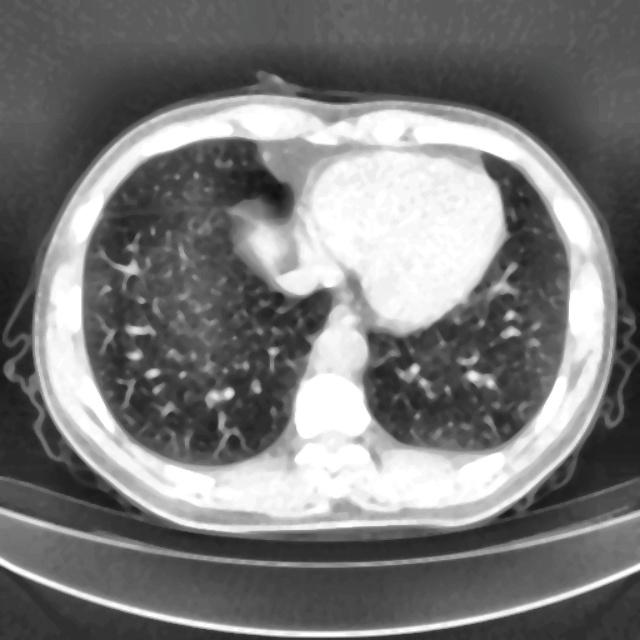covid: (23, 84, 620, 538)
